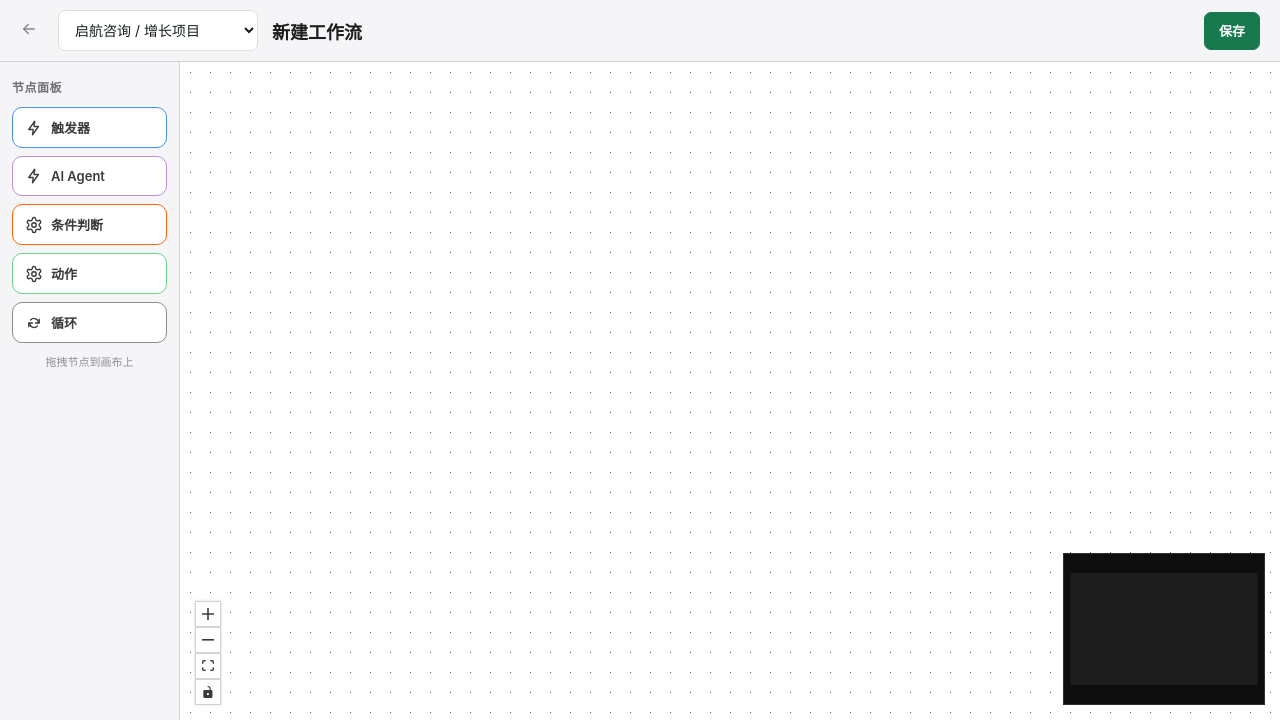
WorkflowEditor › save shows validation messages before any request is made
Click the button "保存" at coordinates (1232, 30), box [1204,12,1260,50]
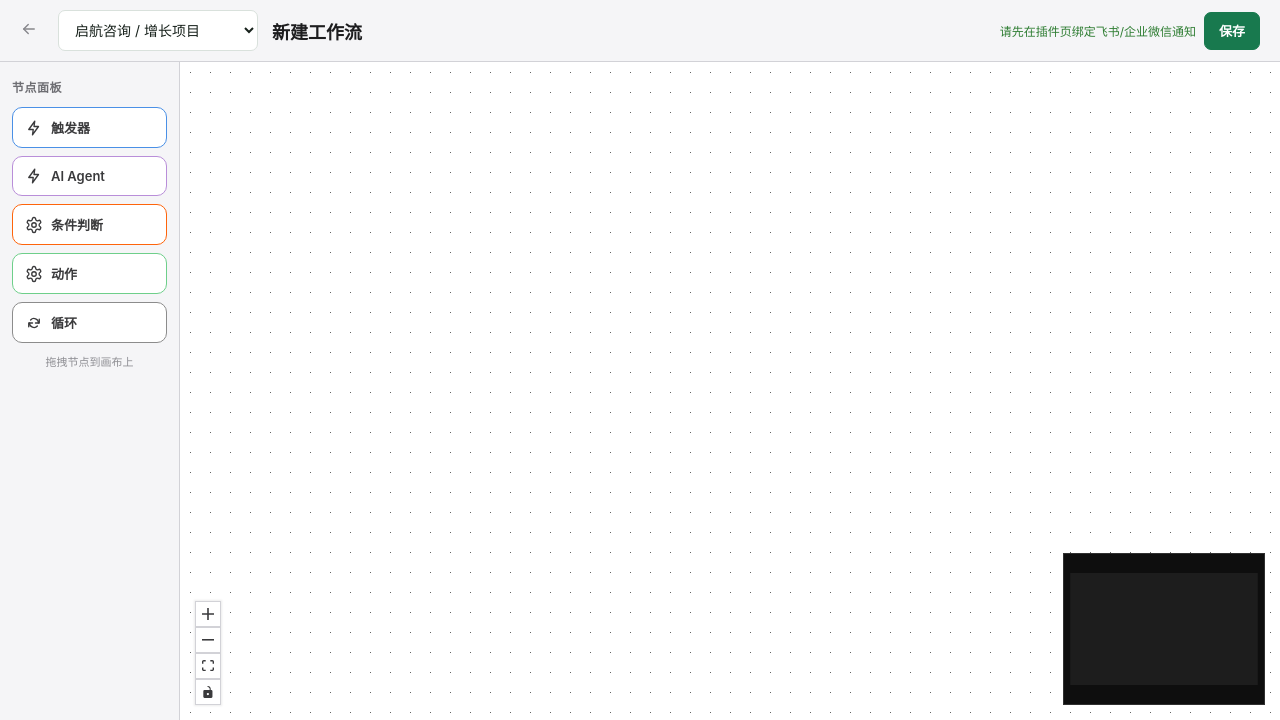
expect the text "请先在插件页绑定飞书/企业微信通知" is shown: met, box [1000,22,1196,39]
